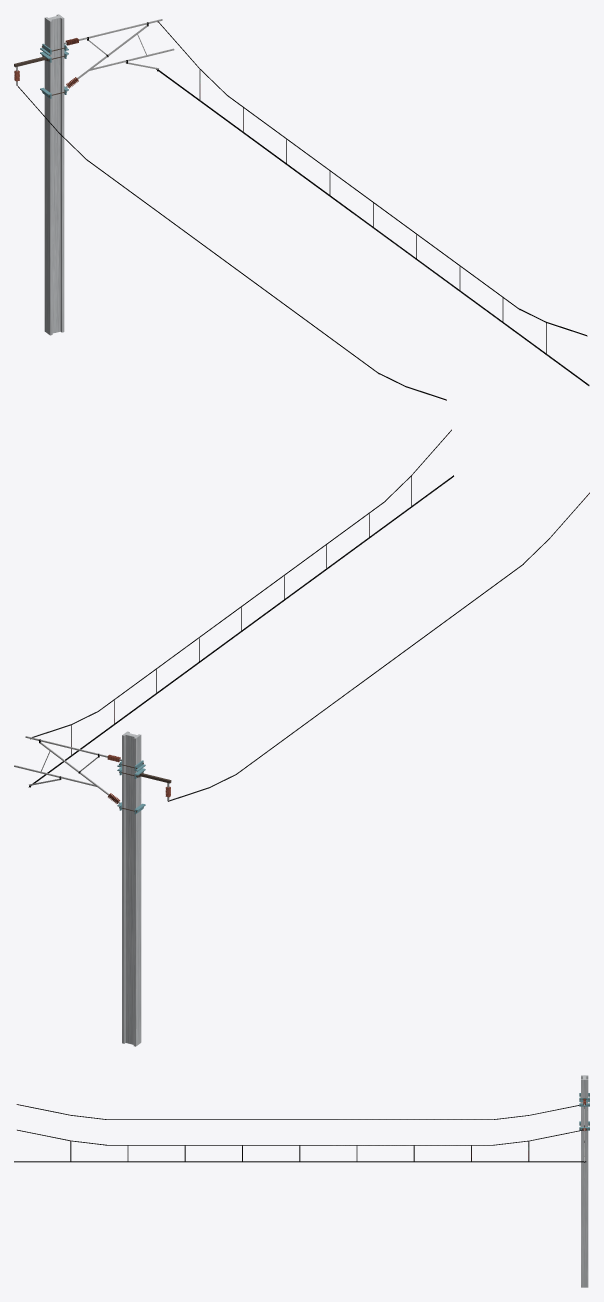
File: catenary_front.obj
3 renders of one model, top to bottom at view 1: azimuth 30°, elevation 25°; view 2: azimuth 150°, elevation 25°; view 3: azimuth 270°, elevation 25°, orthographic. The views are drawn at different scales.
Visible parts, largest first — view 1: cube; view 2: cube; view 3: cube.
Part boxes in pixels (bbox=[...]): cube: bbox=[14, 14, 589, 400]; cube: bbox=[14, 429, 589, 1046]; cube: bbox=[14, 1075, 589, 1287].
Bounding box in the file's own units: 4.25 × 8 × 20.12.
Materials: 3 (3 with a texture image).
